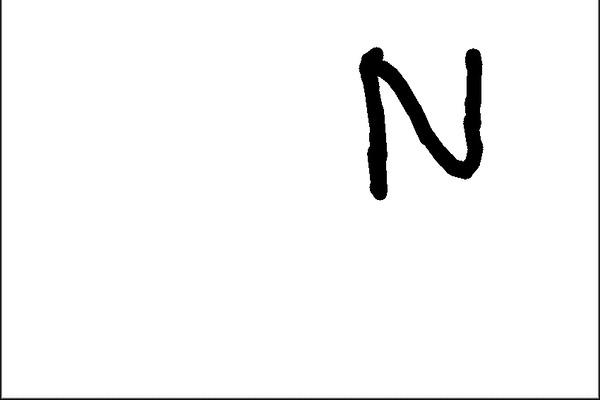N: (352, 38, 489, 203)
